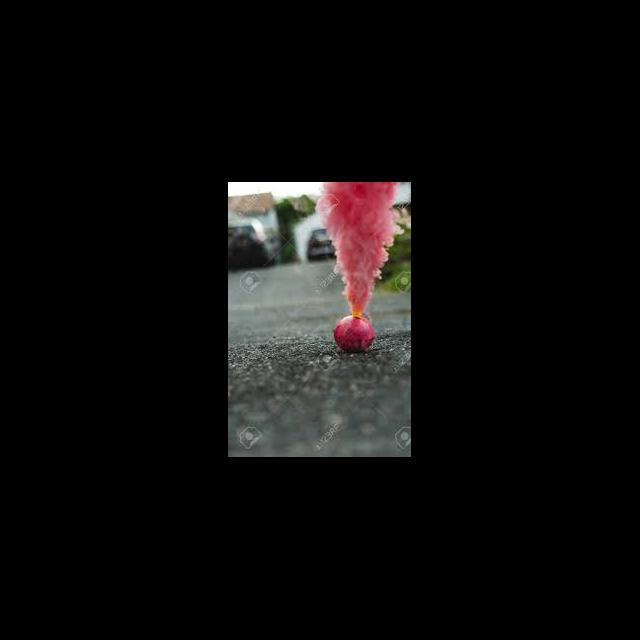Smoke: (314, 182, 404, 314)
